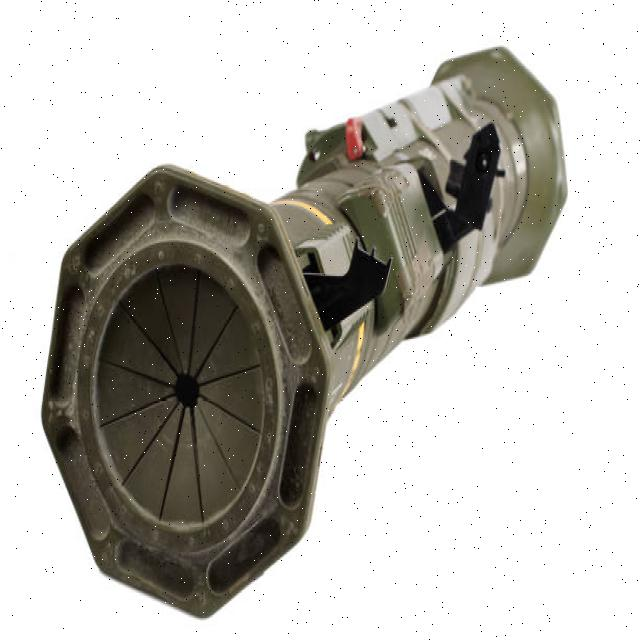bazooka: (31, 41, 583, 624)
